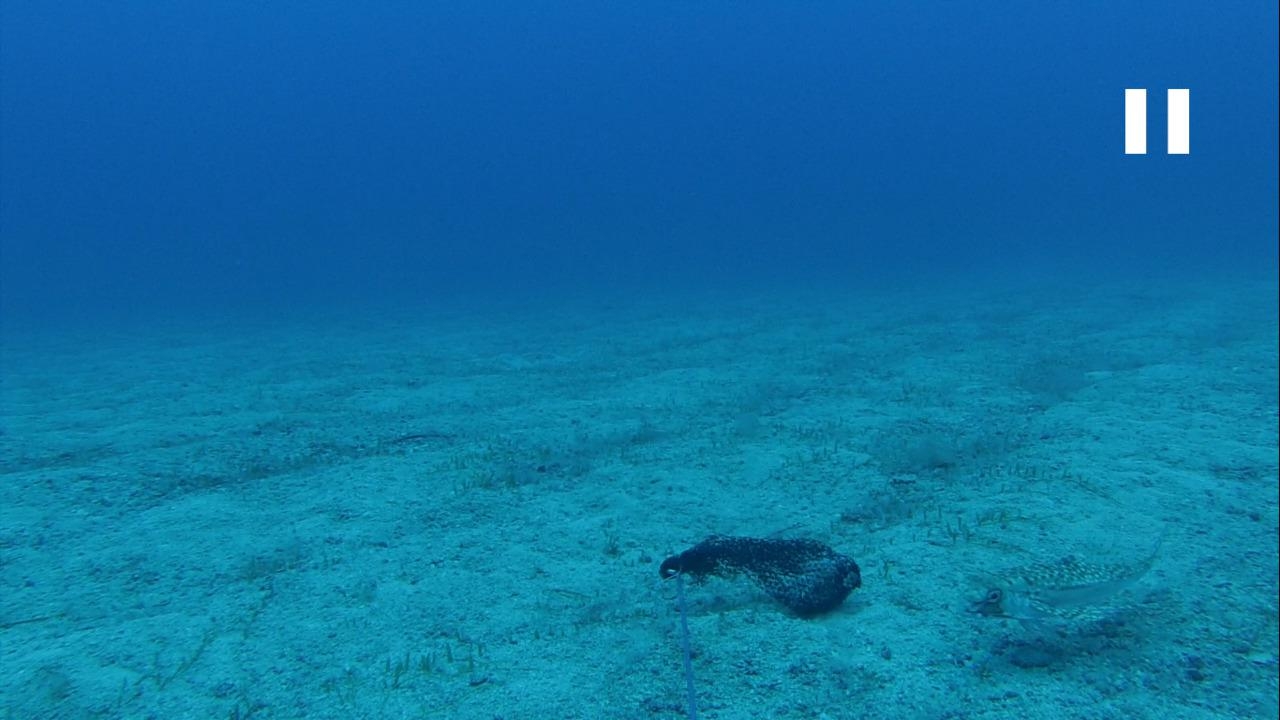dactylopterus: (950, 531, 1170, 648)
